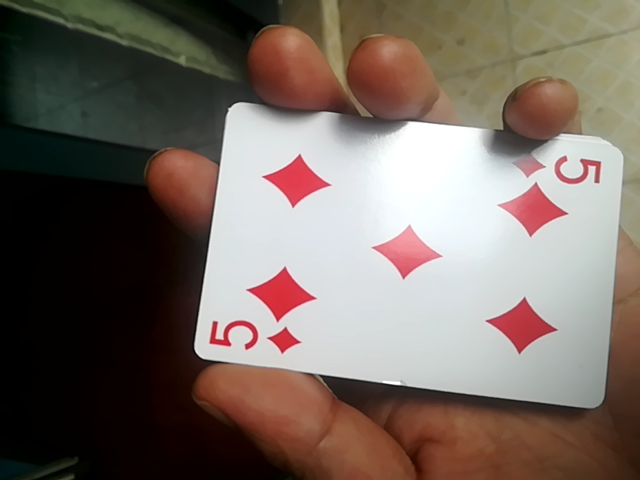fk 5: (186, 106, 634, 410)
